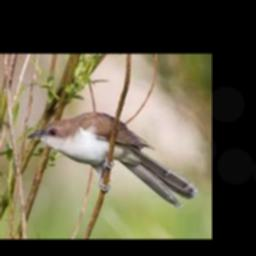Cuckoo: (28, 112, 199, 207)
